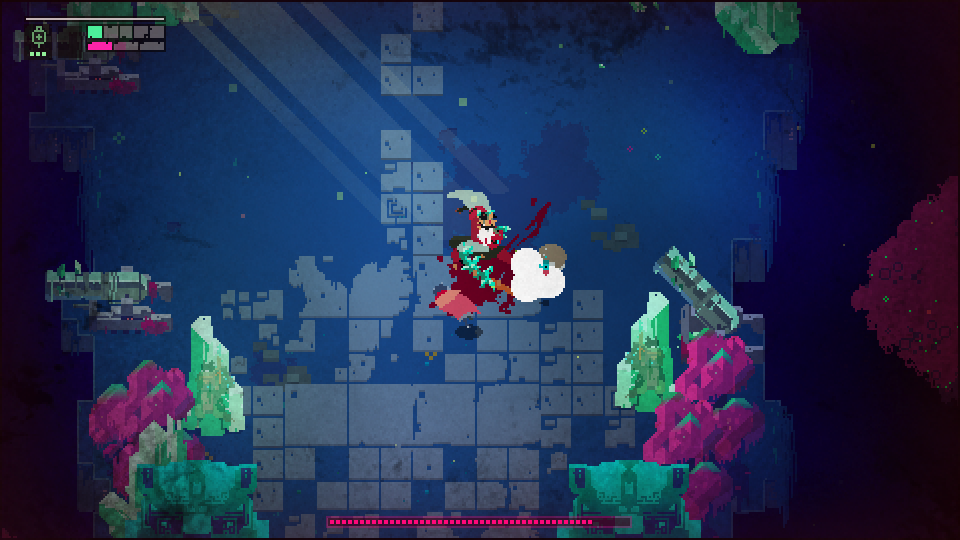hanged_man: (442, 192, 509, 294)
player: (428, 282, 481, 333)
